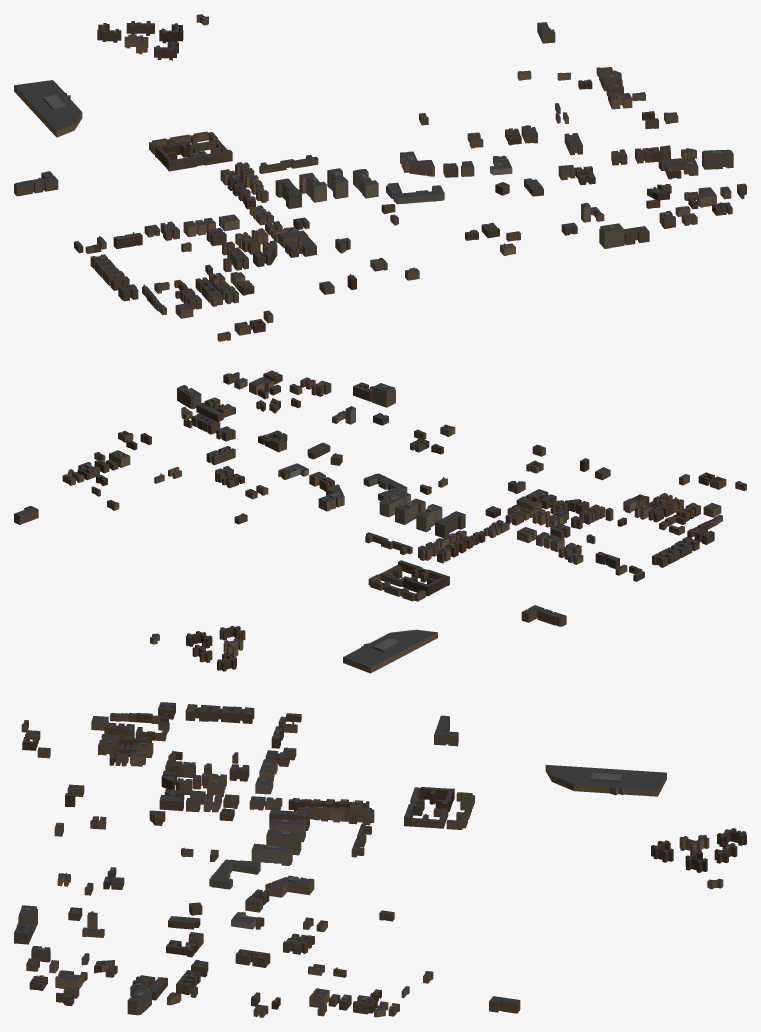
File: manhattan_+03_-03.glb
The picture shows the model from 3 angles, top to bottom: view 1: azimuth 30°, elevation 25°; view 2: azimuth 150°, elevation 25°; view 3: azimuth 270°, elevation 25°; orthographic projection. The views are drawn at different scales.
Visible parts, largest first — view 1: BLD_lowrise_+03_-03, BLD_midrise_+03_-03; view 2: BLD_lowrise_+03_-03, BLD_midrise_+03_-03; view 3: BLD_lowrise_+03_-03, BLD_midrise_+03_-03.
Boxes of the visible parts, <box> form: BLD_lowrise_+03_-03: <box>14,14,746,341</box>; BLD_midrise_+03_-03: <box>275,149,733,248</box>; BLD_lowrise_+03_-03: <box>14,370,746,673</box>; BLD_midrise_+03_-03: <box>177,383,465,537</box>; BLD_lowrise_+03_-03: <box>14,702,746,1017</box>; BLD_midrise_+03_-03: <box>18,808,309,1015</box>.
Size of the model in its own units: 1423 by 39.73 by 1439.
